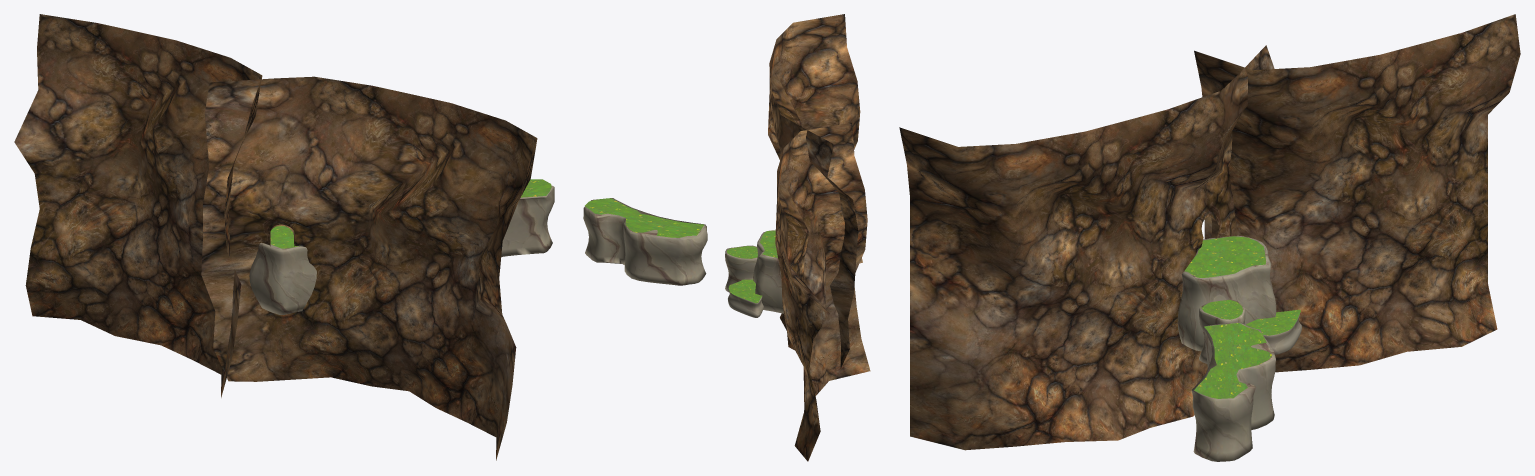
The model's file is MAPA 1.fbx.
3 renders of one model, left to right at view 1: azimuth 30°, elevation 25°; view 2: azimuth 150°, elevation 25°; view 3: azimuth 270°, elevation 25°, orthographic. The views are drawn at different scales.
Visible parts, largest first — view 1: Mountain, Mountain001, Floor 4, Floor 1; view 2: Mountain001, Mountain, Floor 1, Line002, Floor 4, Floor 2, Floor 3, Line004, Line005, Line003; view 3: Mountain, Mountain001, Floor 1, Floor 4, Line002, Line005, Line004, Floor 3, Floor 2, Line003.
Part boxes in pixels (box(x1,y1,x2,y2)): Mountain: box(201, 76, 537, 460); Mountain001: box(14, 14, 262, 397); Floor 4: box(249, 242, 316, 314); Floor 1: box(501, 185, 554, 256); Mountain001: box(775, 122, 870, 461); Mountain: box(768, 14, 862, 368); Floor 1: box(583, 198, 707, 285); Line002: box(585, 198, 703, 237); Floor 4: box(753, 230, 783, 313); Floor 2: box(725, 245, 757, 292); Floor 3: box(728, 278, 763, 317); Line004: box(728, 279, 761, 303); Line005: box(760, 230, 777, 257); Line003: box(725, 246, 757, 258); Mountain: box(899, 45, 1274, 450); Mountain001: box(1194, 14, 1520, 372); Floor 1: box(1191, 322, 1275, 461); Floor 4: box(1177, 235, 1276, 351); Line002: box(1194, 323, 1272, 398); Line005: box(1184, 236, 1265, 277); Line004: box(1246, 309, 1300, 335); Floor 3: box(1263, 314, 1301, 354); Floor 2: box(1199, 299, 1245, 363); Line003: box(1200, 299, 1242, 320).
Bounding box in the file's own units: 235 × 157 × 274.
3 materials, 3 textured.
